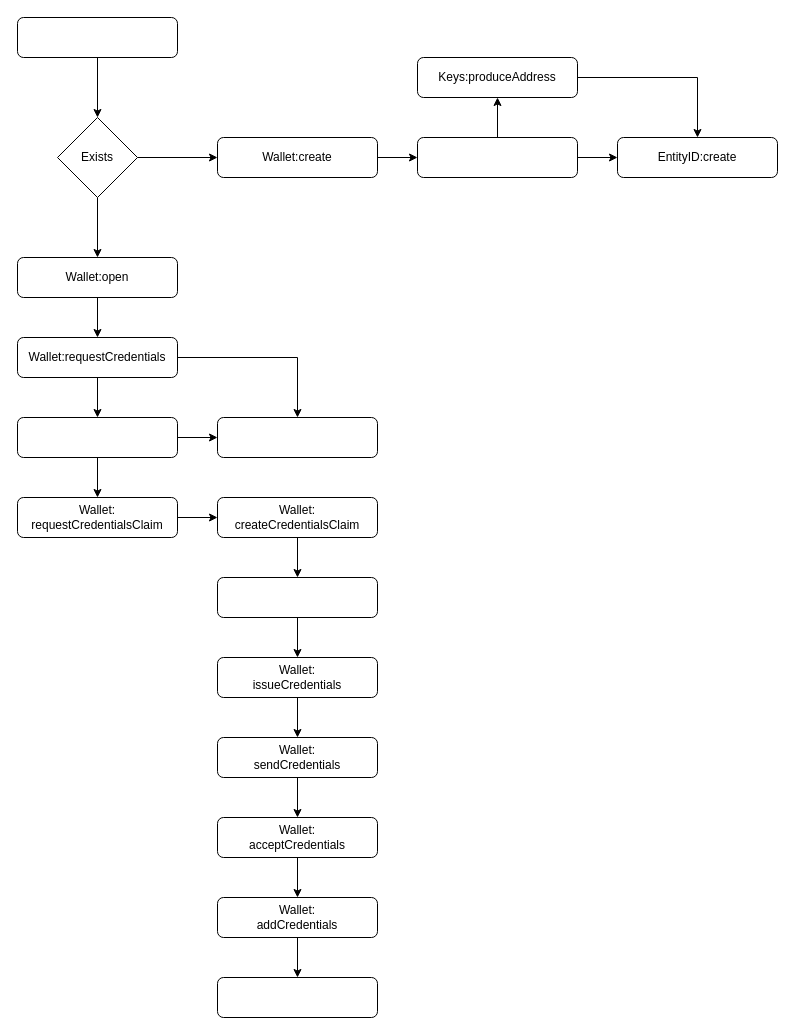
This 795x1035 diagram has some shape labels left out. Each missing label, with the box of its shape:
Keys:create: (416, 136, 578, 178)
Store: storeWallet: (216, 976, 378, 1018)
Wallet: sendCredentialsClaim: (216, 576, 378, 618)
Wallet:init: (16, 16, 178, 58)
Wallet:verifyCredentials: (216, 416, 378, 458)
Wallet:verifyPresentation: (16, 416, 178, 458)
